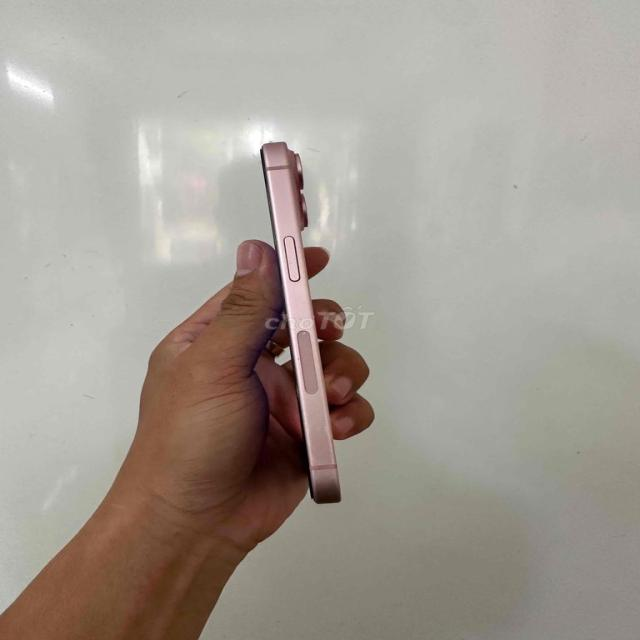gen_15: (213, 134, 380, 512)
